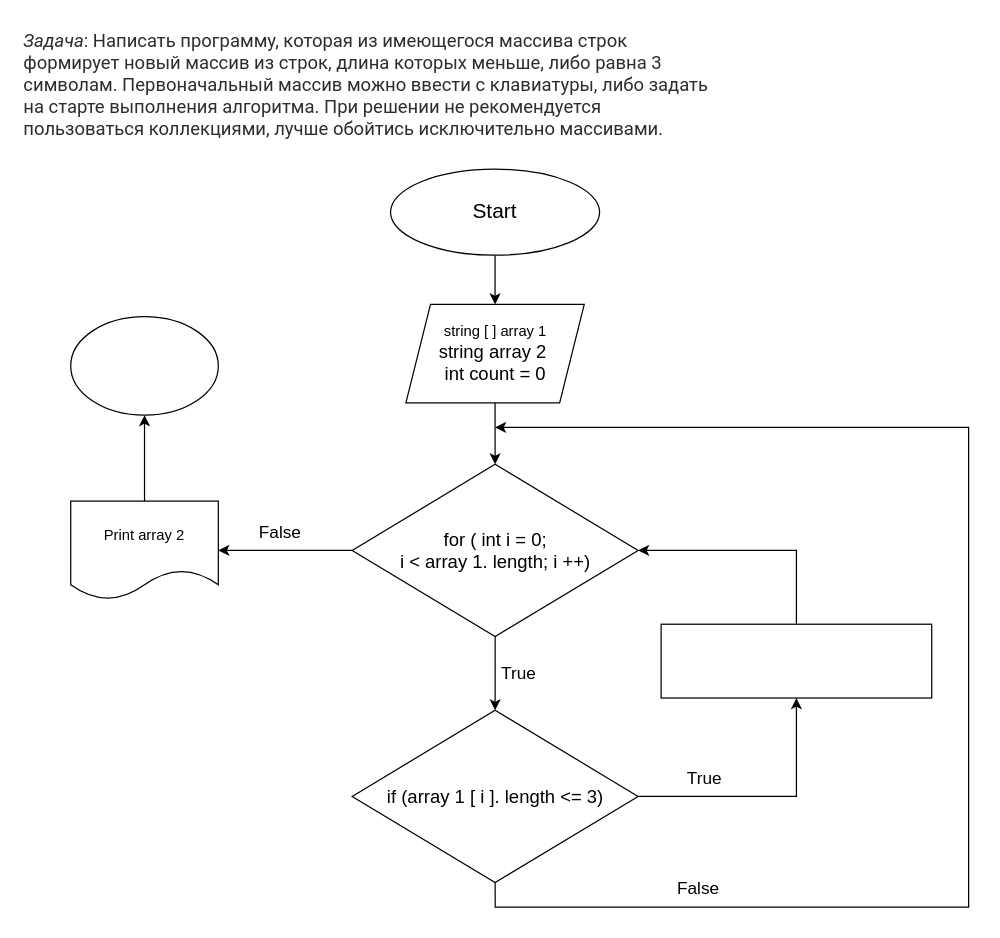
Image size: 1000x938. Some labels were removed from this diagram. Each missing label, with the centre of its shape:
"array 2 [count] = array 1 [i] count ++;" goes at (x=796, y=660).
"Finish" goes at (x=143, y=365).
